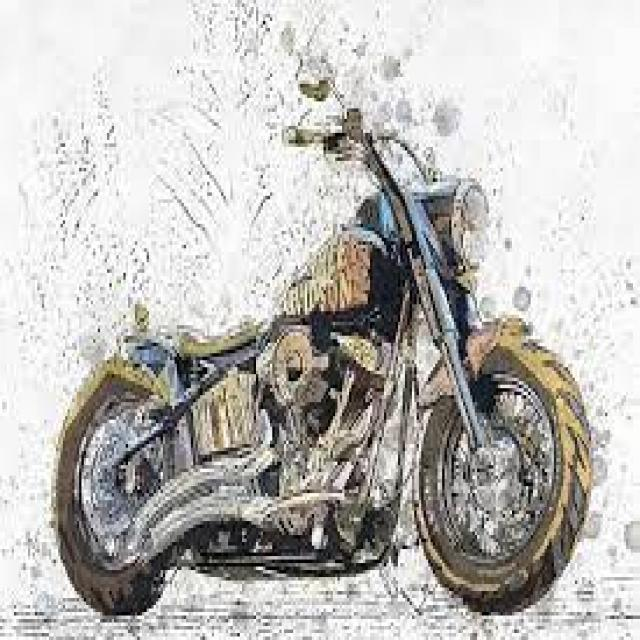Bike: (54, 90, 588, 599)
